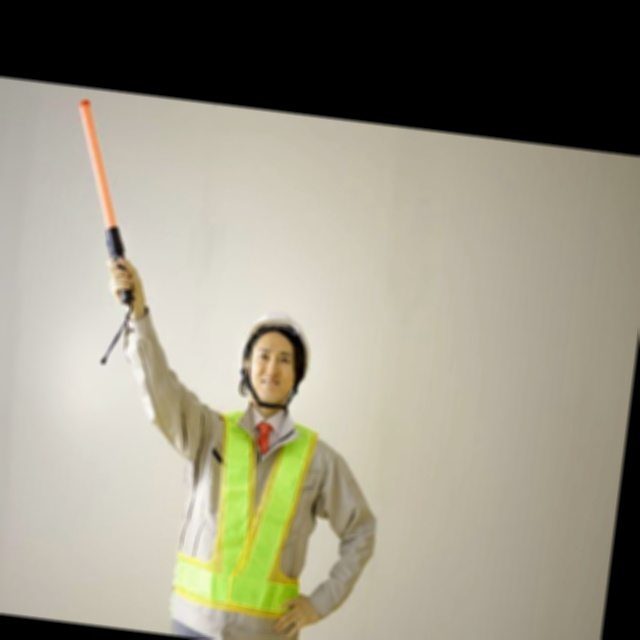Con_Casco: (231, 307, 317, 411)
Con_Chaleco: (172, 401, 324, 622)
